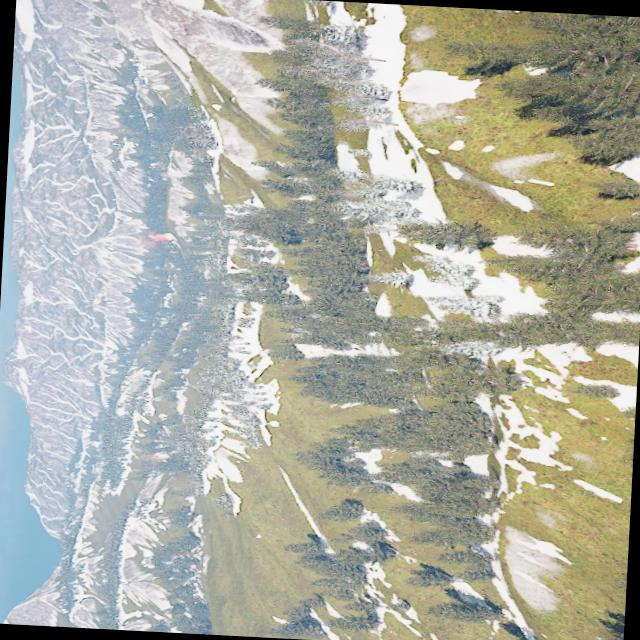fire: (153, 232, 175, 242), (154, 451, 170, 460)
smoke: (120, 230, 158, 250)
